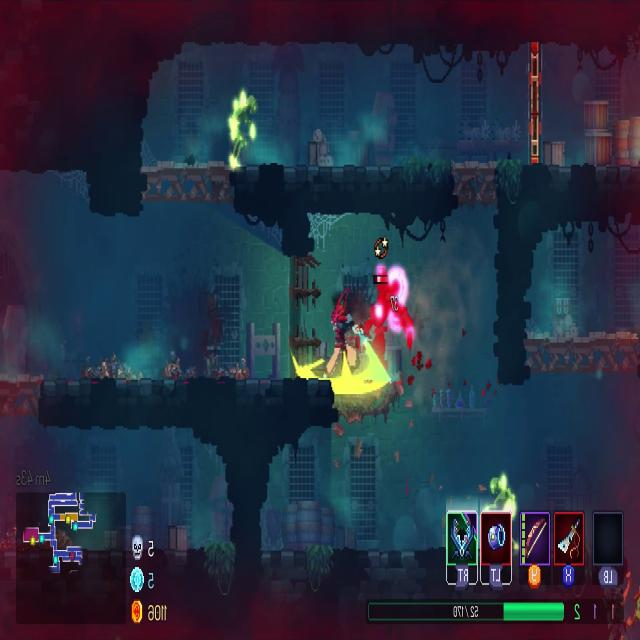agents: (324, 295, 363, 378)
enemy_green_puncher: (227, 87, 259, 172), (482, 470, 519, 522)
enemy_purple_big: (359, 262, 417, 385)
